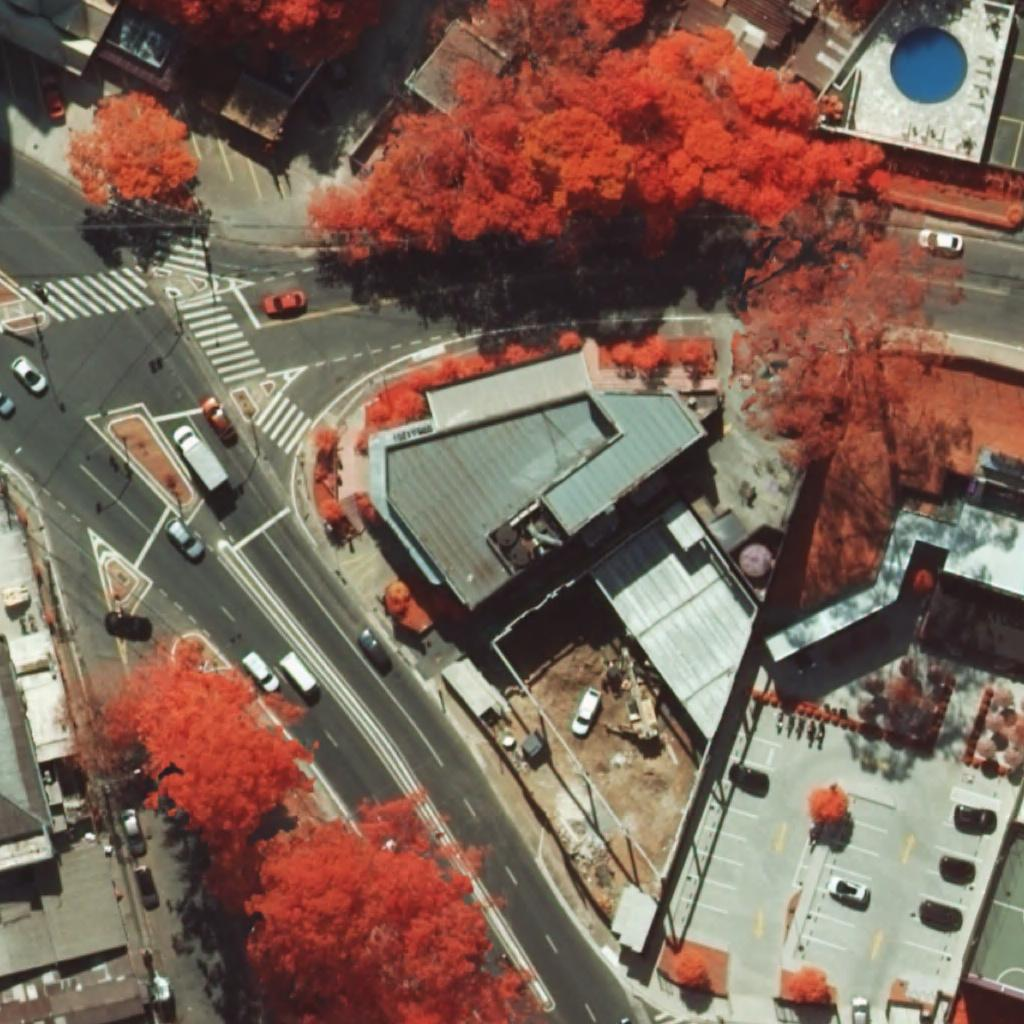pool: (889, 25, 969, 105)
